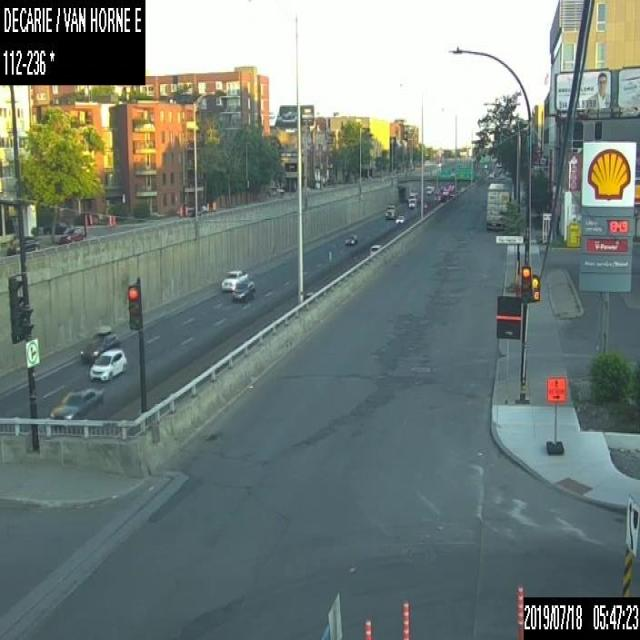construction: (546, 374, 566, 452), (515, 585, 523, 639), (401, 598, 408, 638), (363, 618, 371, 638), (88, 212, 93, 225), (107, 214, 111, 228), (178, 203, 182, 216), (112, 213, 115, 227), (212, 201, 216, 211), (184, 203, 187, 216), (84, 211, 87, 224), (206, 201, 208, 212)
vehicle: (50, 385, 104, 420), (78, 324, 118, 364), (484, 180, 511, 231), (89, 348, 127, 382), (6, 236, 39, 254), (220, 269, 246, 291), (34, 220, 72, 235), (56, 226, 84, 243), (233, 280, 255, 301), (384, 201, 400, 218), (368, 241, 381, 256), (344, 231, 357, 244), (407, 191, 417, 203), (394, 213, 404, 223), (407, 197, 416, 208), (425, 184, 433, 194), (442, 188, 448, 195), (488, 171, 493, 177)
